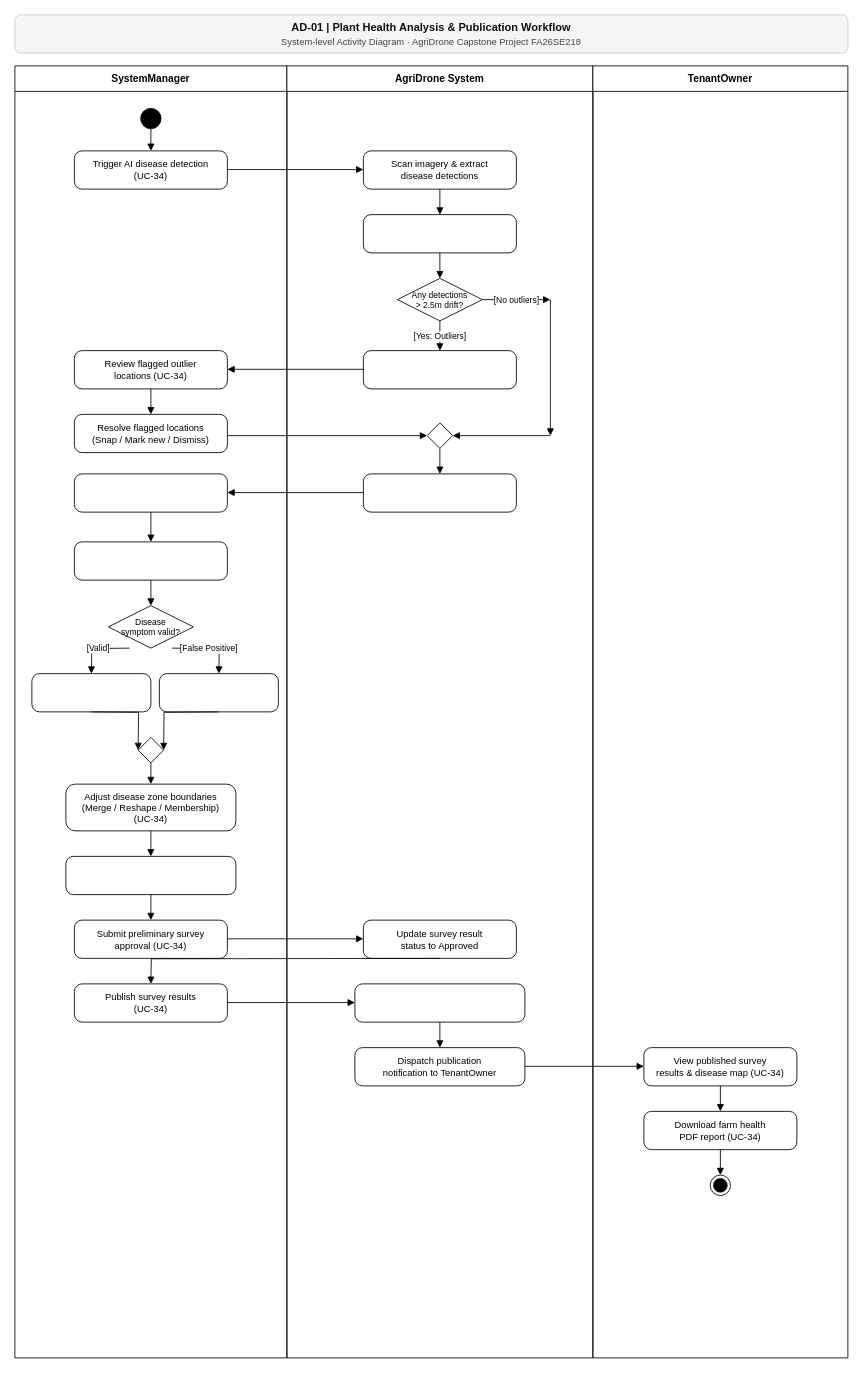
Image size: 863x1373. Some labels were removed from this diagram. Here are the shapes that lost their labels. From the top down, the centre of each, then its label:
the point at 439,233: Match detections with poles via Haversine (tolerance 2.5m)
the point at 439,369: Flag outlier locations as Pending Review (UC-34)
the point at 150,492: Inspect plant health analysis map (UC-34)
the point at 439,492: Propose preliminary disease outbreak zones (UC-34)
the point at 150,560: Review suspected disease detections & crops (UC-34)
the point at 91,692: Confirm disease detection & health status (UC-34)
the point at 218,692: Reject false positive & restore healthy status
the point at 150,875: Review treatment guidance & attach custom notes (UC-34)
the point at 439,1002: Update status to Published, persist Outbox & send event
